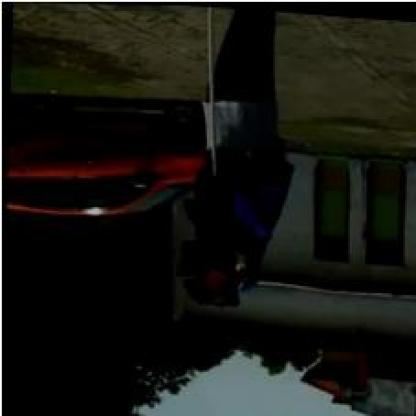red: (179, 185, 239, 306)
